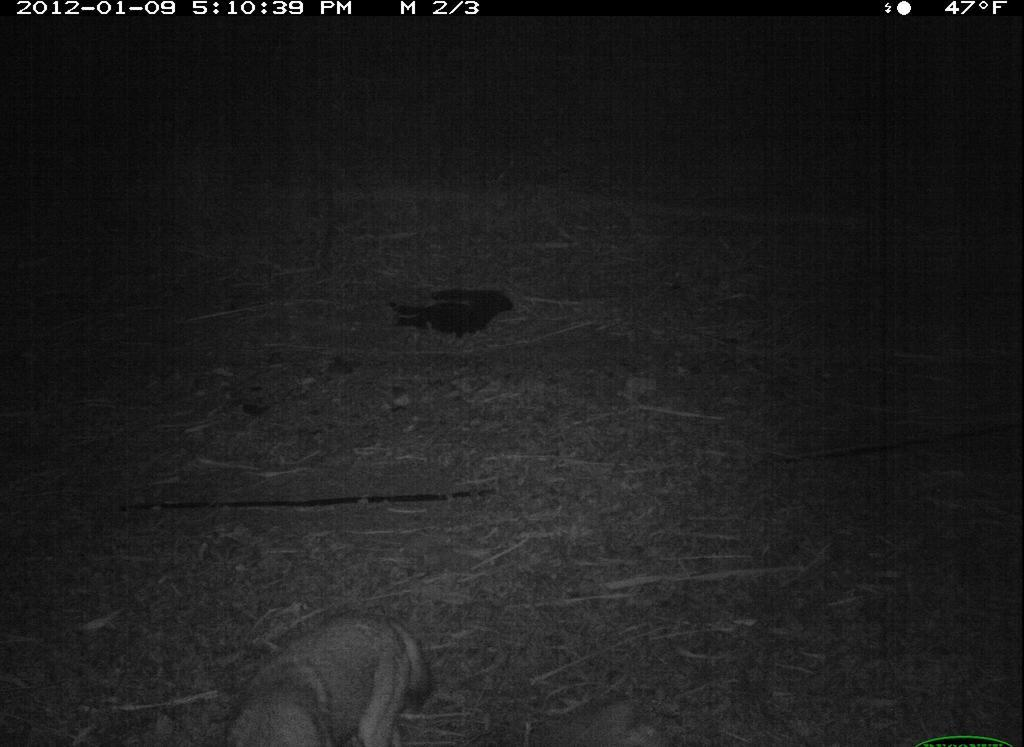coyote: (223, 609, 446, 747)
